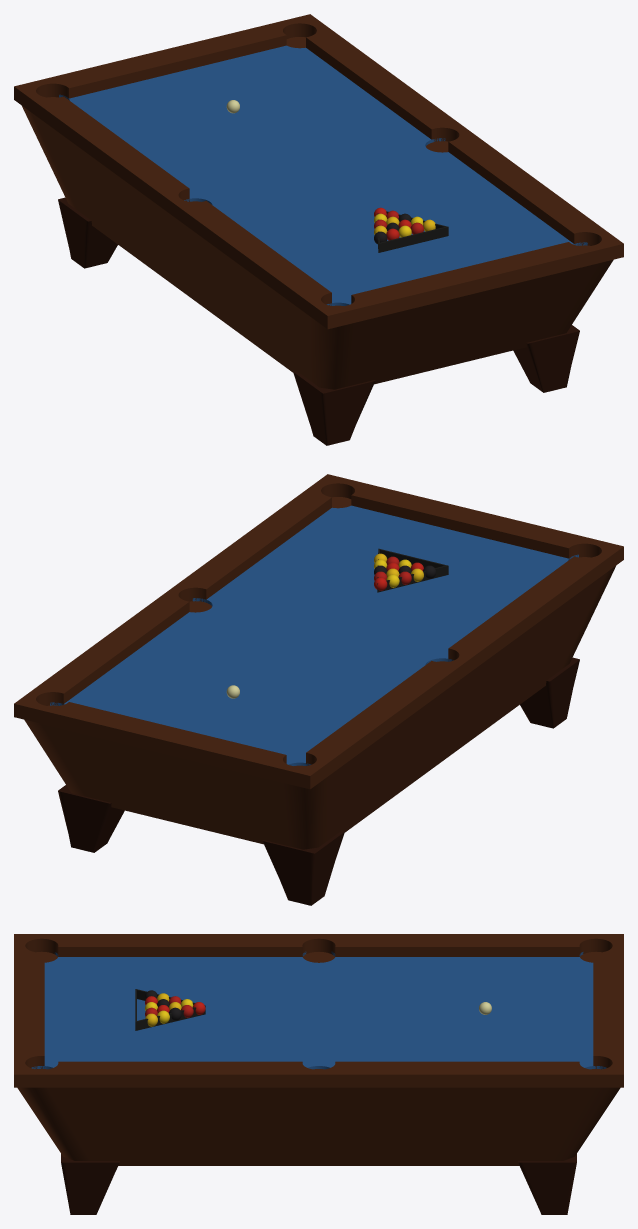
Rendered from pool_table__001a994fe20b.glb.
3 renders of one model, top to bottom at view 1: azimuth 30°, elevation 25°; view 2: azimuth 150°, elevation 25°; view 3: azimuth 270°, elevation 25°, orthographic. The views are drawn at different scales.
Visible parts, largest first — view 1: blue_bed, rails, cabinet, leg.001, leg, leg.003, rack; view 2: blue_bed, rails, cabinet, leg.003, leg.002, leg.001, rack; view 3: blue_bed, cabinet, rails, leg.002, leg, rack.
Boxes of the visible parts, x1,y1,x2,y2 form: blue_bed: (59,45,587,305); rails: (14,14,623,329); cabinet: (22,37,613,389); leg.001: (293,370,375,445); leg: (513,325,579,392); leg.003: (58,197,117,268); rack: (377,211,448,252); blue_bed: (50,505,578,765); rails: (14,474,623,789); cabinet: (24,497,615,849); leg.003: (262,830,344,905); leg.002: (58,785,124,852); leg.001: (520,657,579,728); rack: (377,548,448,592); blue_bed: (31,951,606,1069); cabinet: (17,951,620,1165); rails: (14,934,623,1087); leg.002: (518,1154,576,1214); leg: (61,1154,119,1214); rack: (135,989,205,1030).
Size of the model in its own units: 1.53 by 0.787 by 2.8.
